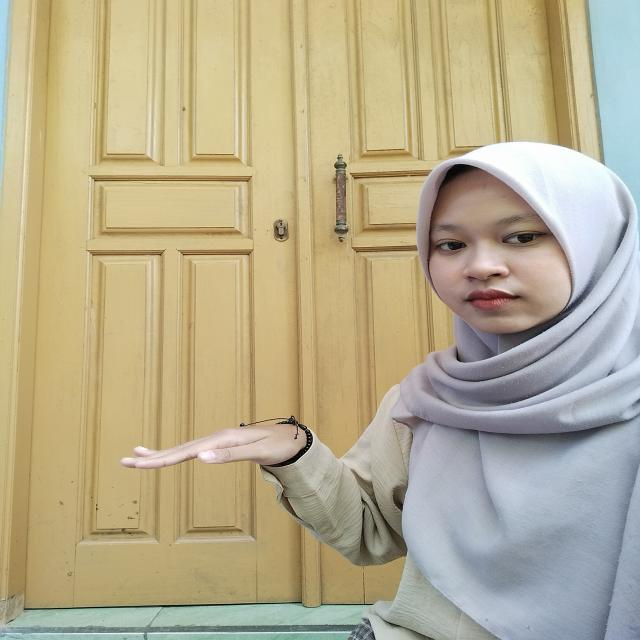adik: (109, 403, 336, 505)
